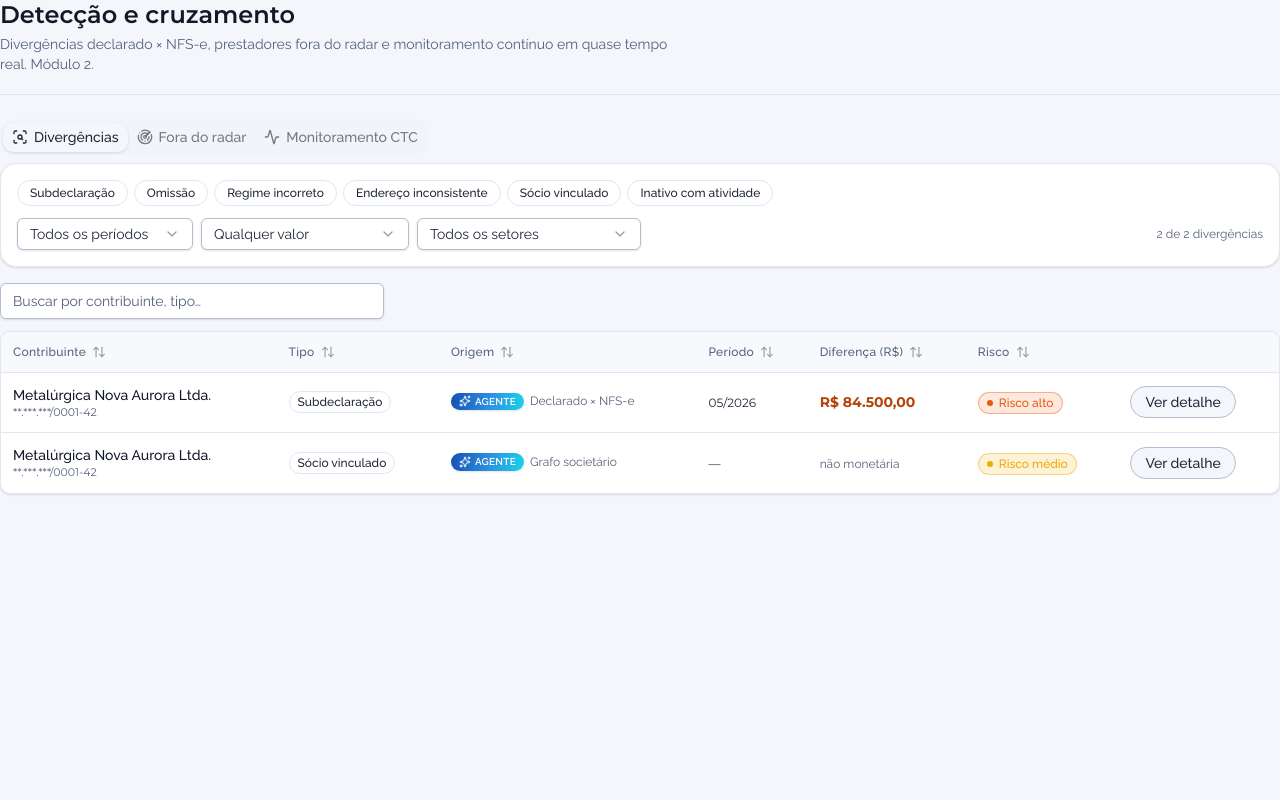
Scenario: CrossingPage (T05) › detalhe abre com lado a lado, cálculo, evidências NFS-e, score (T09) e link para o dossiê
Click the button "Ver detalhe" in the row of "05/2026": [1183, 402] box x1=1130 y1=386 x2=1236 y2=418
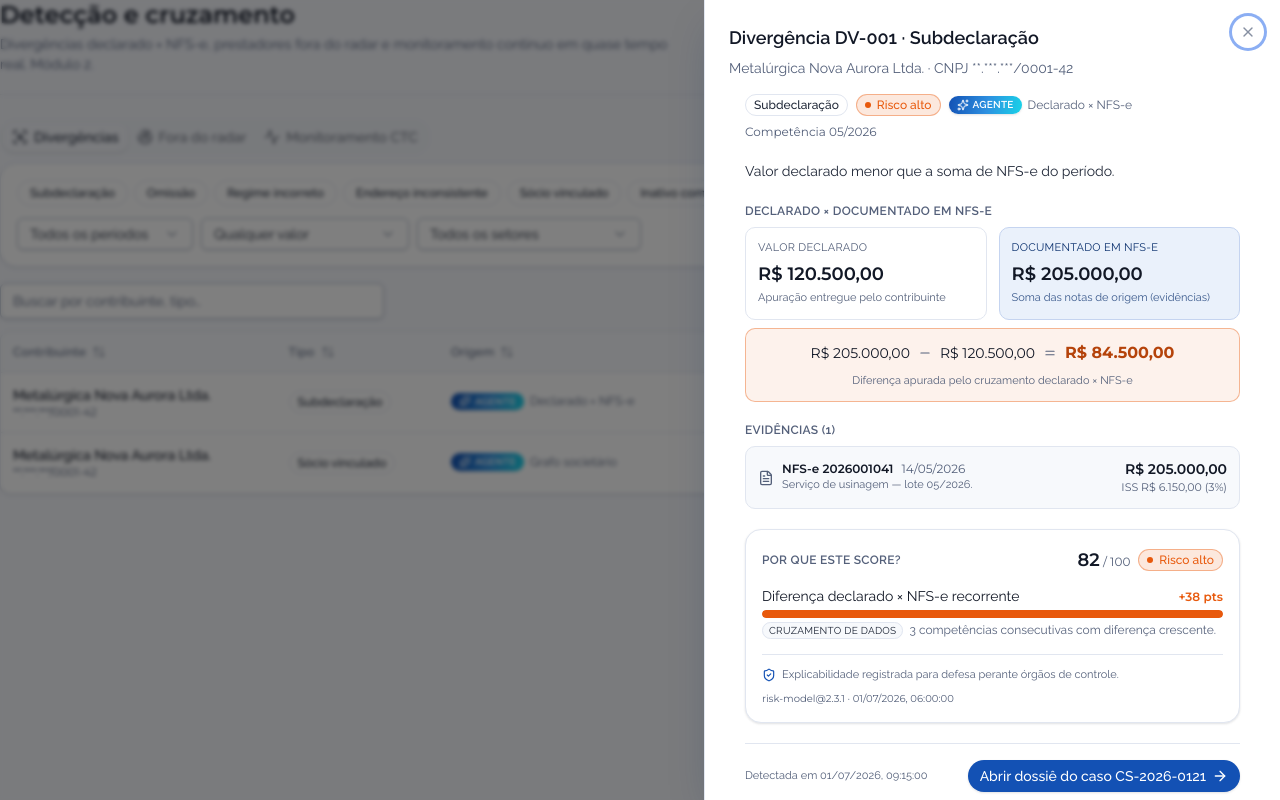
Now the heading "Declarado × documentado em NFS-e" is shown, box x1=745 y1=204 x2=992 y2=218
Now the text "R$ 120.500,00" is shown 2 times, box x1=758 y1=263 x2=884 y2=285; x1=940 y1=343 x2=1035 y2=363
Now the 1st text "R$ 205.000,00" is shown, box x1=1012 y1=263 x2=1143 y2=285
